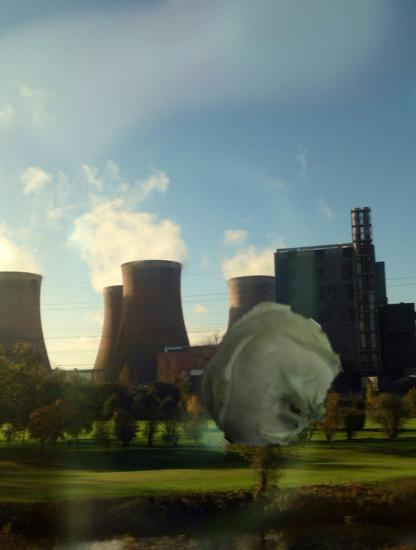Kohlrabi: (199, 308, 347, 456)
